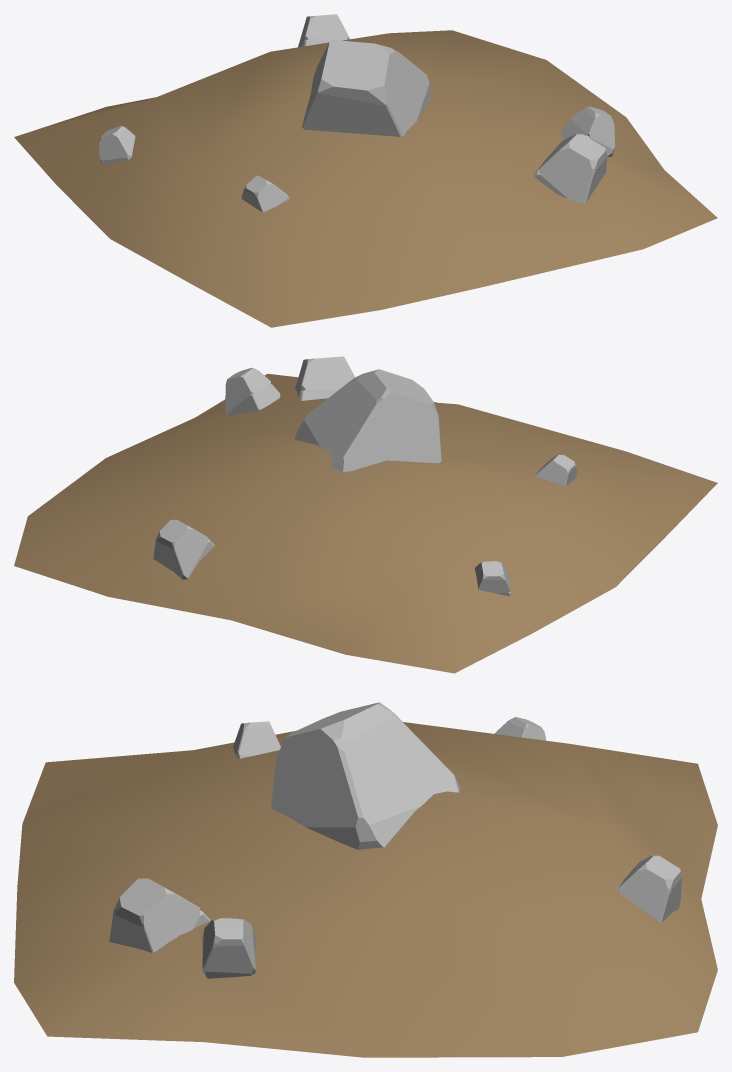
The model's file is Debris2.fbx.
3 renders of one model, top to bottom at view 1: azimuth 30°, elevation 25°; view 2: azimuth 150°, elevation 25°; view 3: azimuth 270°, elevation 25°, orthographic. The views are drawn at different scales.
Parts seen in each view (by area): view 1: debris2; view 2: debris2; view 3: debris2.
Boxes of the visible parts, x1,y1,x2,y2 form: debris2: (14, 14, 717, 327); debris2: (14, 356, 717, 673); debris2: (14, 702, 717, 1057).
Bounding box in the file's own units: 428 × 115 × 406.
